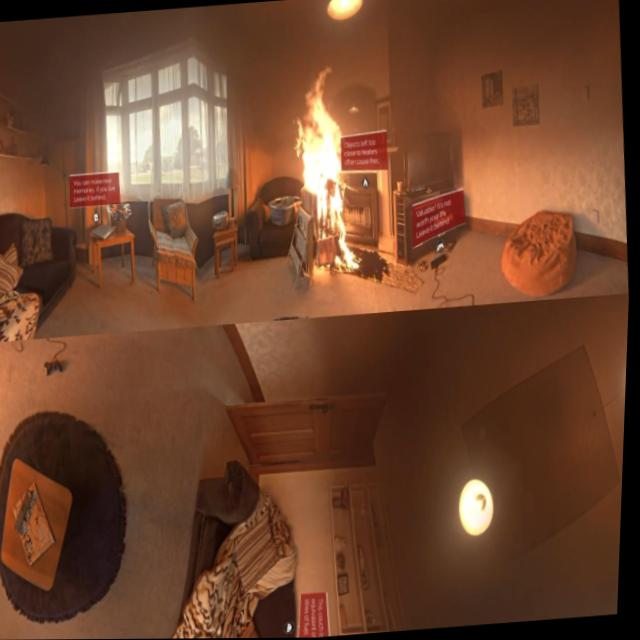fire: (286, 61, 369, 275)
